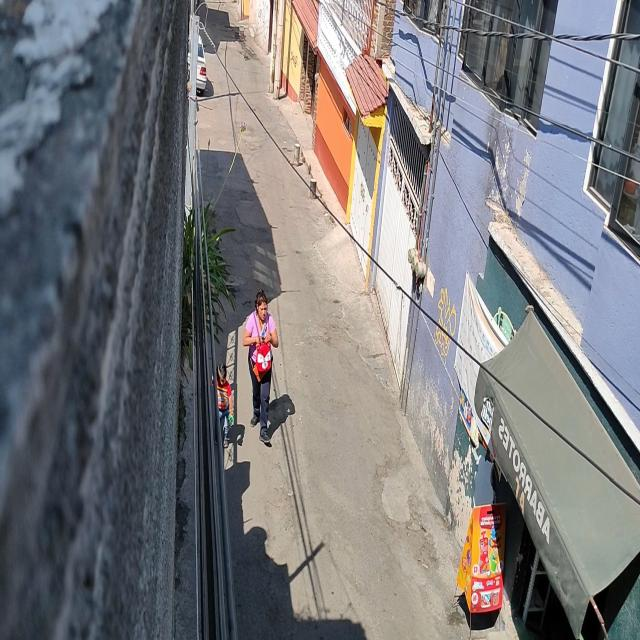adult: (242, 286, 280, 444), (212, 362, 231, 449)
